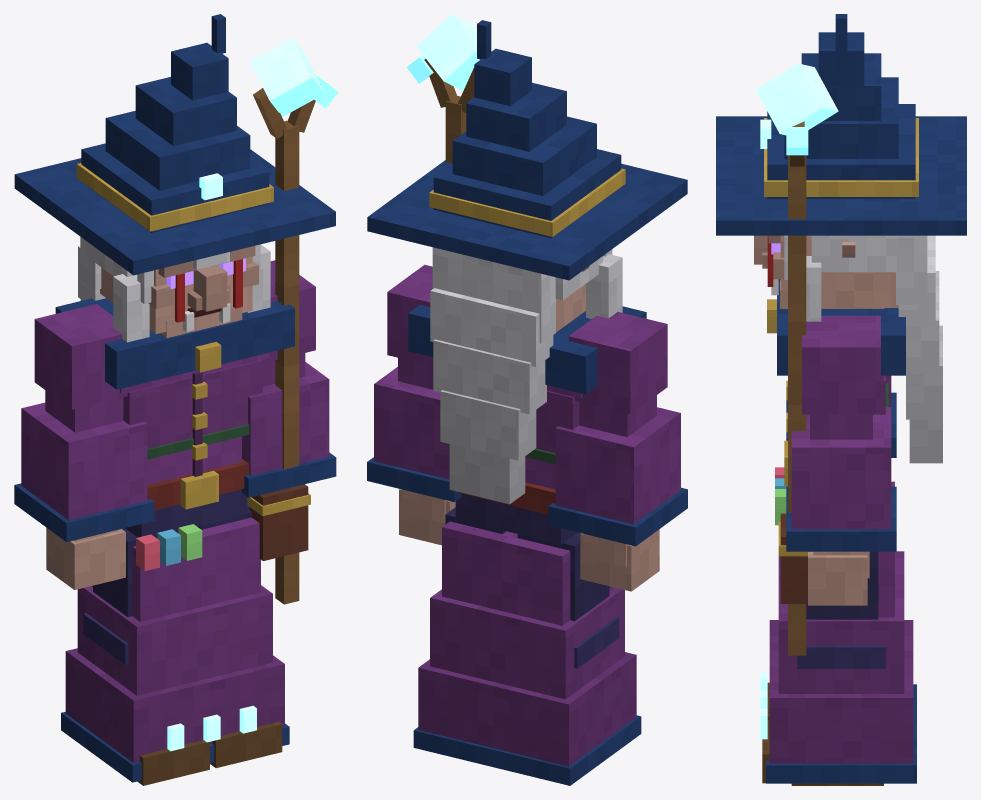
File: kijin_mage.glb
The picture shows the model from 3 angles, left to right: view 1: azimuth 30°, elevation 25°; view 2: azimuth 150°, elevation 25°; view 3: azimuth 270°, elevation 25°; orthographic projection. The views are drawn at different scales.
Visible parts, largest first — view 1: Head, Root, Torso, ArmR, HandL, ArmL, LegR, LegL; view 2: Head, Root, ArmR, ArmL, Torso, HandL, LegR; view 3: Head, ArmL, Root, HandL, Torso, LegL, ArmR.
Part boxes in pixels (bbox=[...]): Head: bbox=[14, 14, 335, 342]; Root: bbox=[61, 517, 289, 782]; Torso: bbox=[55, 298, 310, 570]; ArmR: bbox=[14, 304, 154, 589]; HandL: bbox=[250, 38, 338, 604]; ArmL: bbox=[241, 260, 336, 497]; LegR: bbox=[83, 528, 209, 785]; LegL: bbox=[197, 505, 282, 767]; Head: bbox=[367, 20, 687, 504]; Root: bbox=[413, 521, 641, 785]; ArmR: bbox=[548, 312, 687, 591]; ArmL: bbox=[367, 264, 461, 545]; Torso: bbox=[408, 305, 646, 544]; HandL: bbox=[406, 14, 492, 163]; LegR: bbox=[517, 532, 619, 668]; Head: bbox=[716, 14, 966, 463]; ArmL: bbox=[786, 315, 896, 605]; Root: bbox=[760, 481, 916, 783]; HandL: bbox=[756, 63, 838, 655]; Torso: bbox=[767, 280, 905, 603]; LegL: bbox=[762, 551, 885, 785]; ArmR: bbox=[786, 375, 896, 457].
Bounding box in the file's own units: 0.8994 × 2.26 × 0.68.
42 materials, 42 textured.
